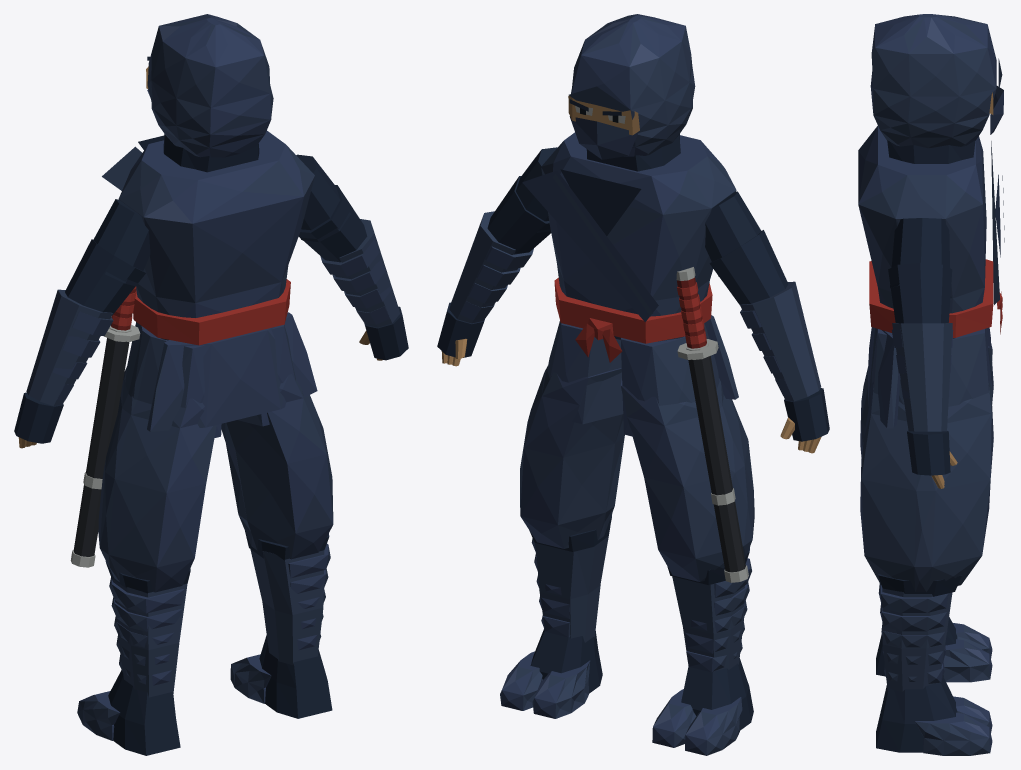
3 renders of one model, left to right at view 1: azimuth 30°, elevation 25°; view 2: azimuth 150°, elevation 25°; view 3: azimuth 270°, elevation 25°, orthographic.
Bounding box in the file's own units: 1 × 1.7 × 0.333.
